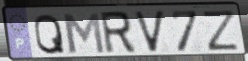7: (171, 9, 199, 54)
M: (60, 12, 107, 55)
Q: (33, 12, 67, 56)
R: (98, 10, 138, 56)
V: (132, 9, 167, 55)
Z: (201, 9, 241, 53)
